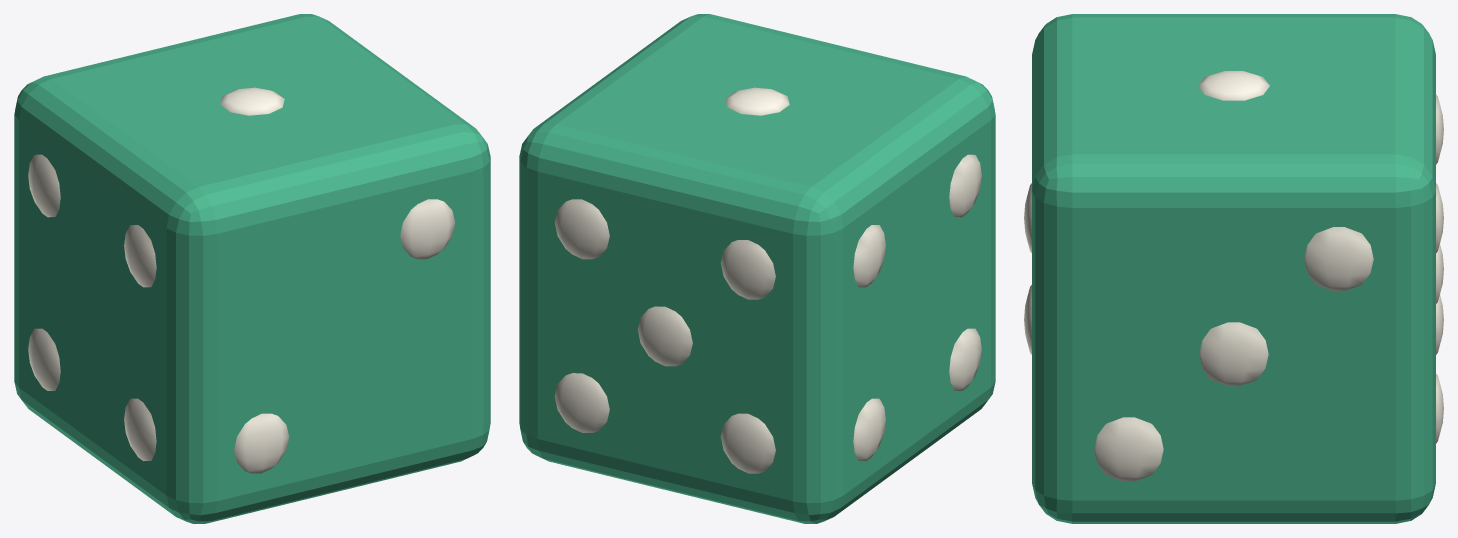
Rendered from die.glb.
3 renders of one model, left to right at view 1: azimuth 30°, elevation 25°; view 2: azimuth 150°, elevation 25°; view 3: azimuth 270°, elevation 25°, orthographic. The views are drawn at different scales.
Parts seen in each view (by area): view 1: Die; view 2: Die; view 3: Die.
Boxes of the visible parts, bbox=[...] form: Die: bbox=[14, 14, 490, 523]; Die: bbox=[519, 14, 995, 523]; Die: bbox=[1024, 14, 1443, 523].
Size of the model in its own units: 1.04 by 1.04 by 1.04.
